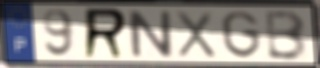9: (41, 9, 77, 58)
B: (265, 9, 310, 62)
G: (219, 10, 263, 60)
N: (125, 9, 176, 59)
R: (81, 6, 129, 61)
X: (174, 9, 219, 59)
